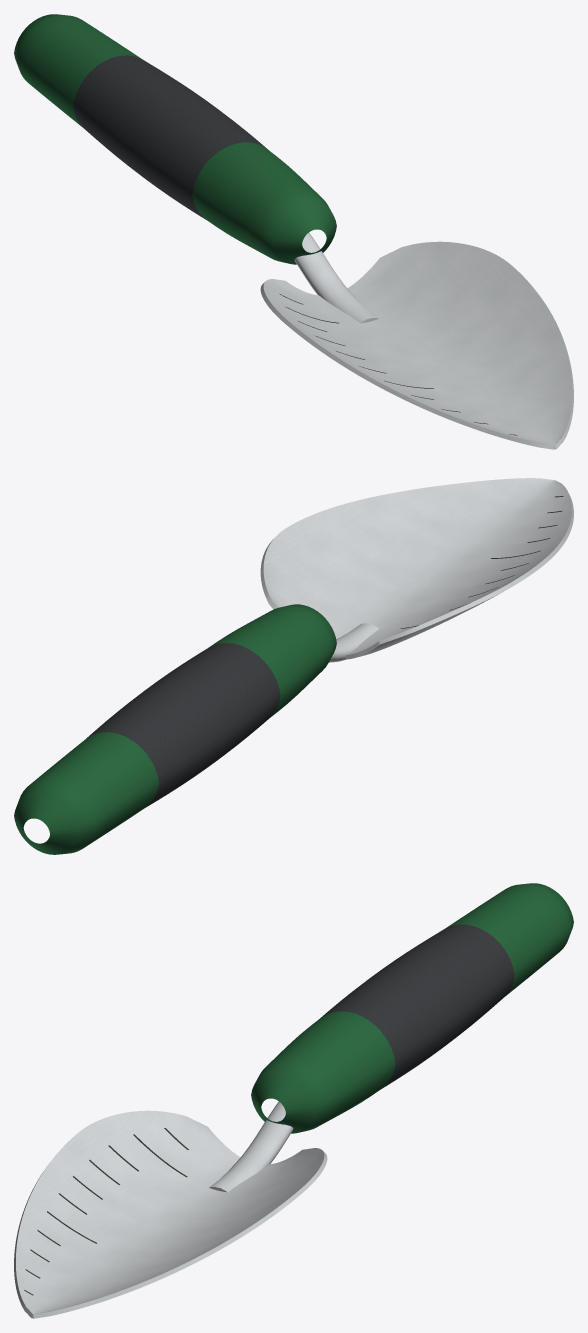
The model's file is dig_mini.hero.glb.
3 renders of one model, top to bottom at view 1: azimuth 30°, elevation 25°; view 2: azimuth 150°, elevation 25°; view 3: azimuth 330°, elevation 25°, orthographic.
Visible parts, largest first — view 1: Tool; view 2: Tool; view 3: Tool.
Part boxes in pixels (left/top/right/bottom): Tool: left=14, top=14, right=573, bottom=449; Tool: left=14, top=478, right=573, bottom=854; Tool: left=14, top=883, right=573, bottom=1318.
Size of the model in its own units: 0.0714 by 0.029 by 0.2803.
4 materials, 4 textured.
